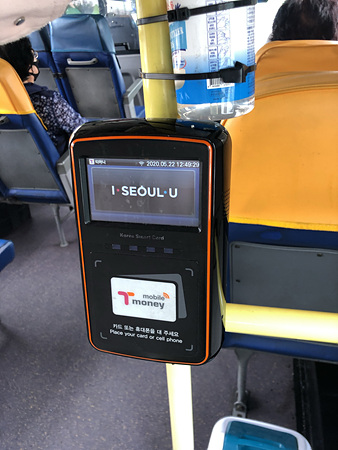terminal: (68, 119, 225, 371)
